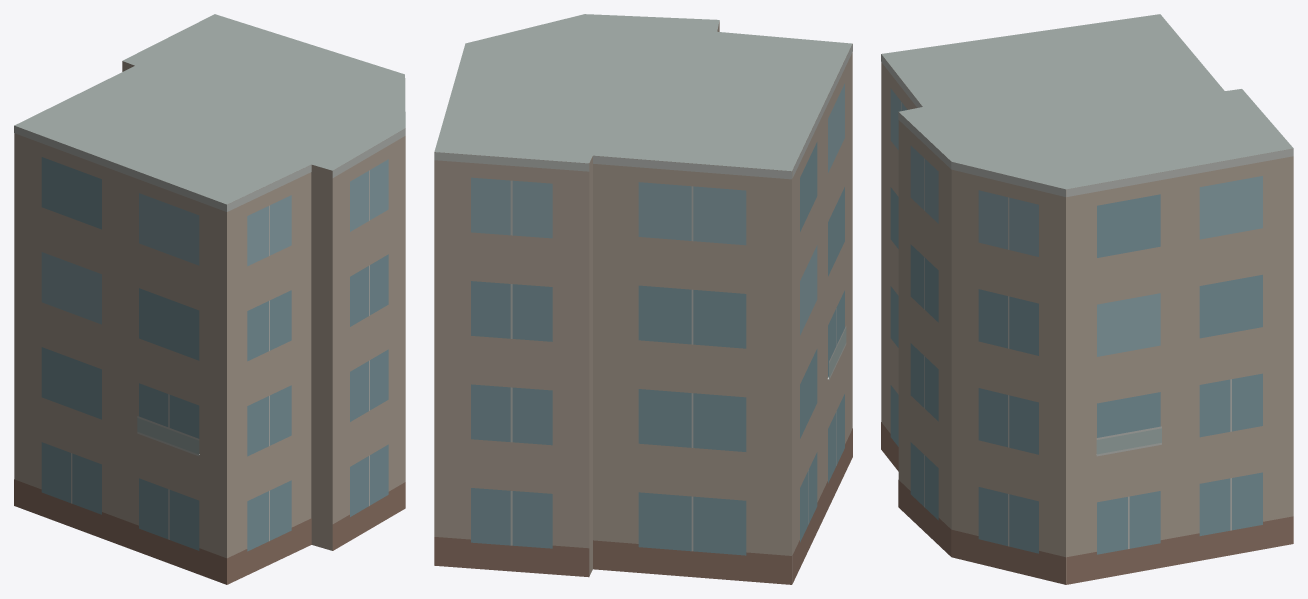
File: survey-upis-32681226.glb
3 views of the same model, side by side, from view 1: azimuth 30°, elevation 25°; view 2: azimuth 150°, elevation 25°; view 3: azimuth 270°, elevation 25° (orthographic). The views are drawn at different scales.
Parts seen in each view (by area): view 1: survey-upis-32681226.tmp; view 2: survey-upis-32681226.tmp; view 3: survey-upis-32681226.tmp.
Part boxes in pixels (left/top/right/bottom): survey-upis-32681226.tmp: left=14, top=14, right=405, bottom=584; survey-upis-32681226.tmp: left=434, top=14, right=852, bottom=584; survey-upis-32681226.tmp: left=881, top=14, right=1293, bottom=584.
Bounding box in the file's own units: 11.71 × 12.3 × 11.64.
